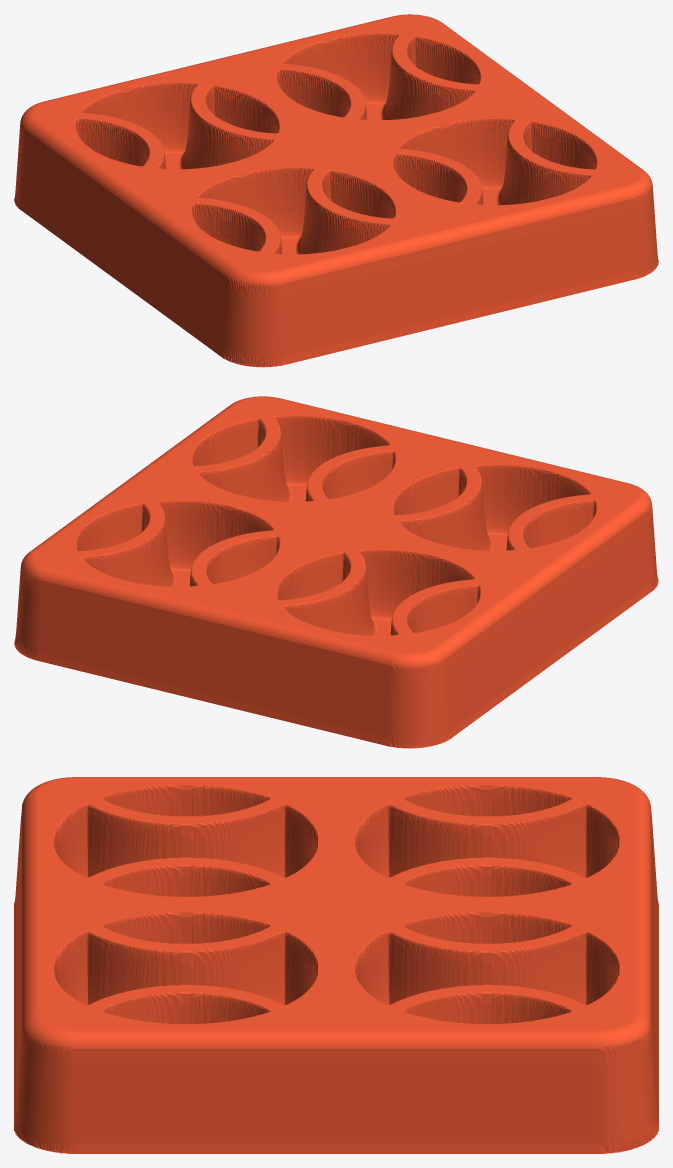
Rendered from mold.glb.
The picture shows the model from 3 angles, top to bottom: view 1: azimuth 30°, elevation 25°; view 2: azimuth 150°, elevation 25°; view 3: azimuth 270°, elevation 25°; orthographic projection. The views are drawn at different scales.
Parts seen in each view (by area): view 1: geometry_0; view 2: geometry_0; view 3: geometry_0.
Boxes of the visible parts, left/top/right/bottom form: geometry_0: left=14, top=14, right=658, bottom=367; geometry_0: left=14, top=396, right=658, bottom=748; geometry_0: left=14, top=777, right=658, bottom=1153.
Bounding box in the file's own units: 0.0942 × 0.0182 × 0.0942.
